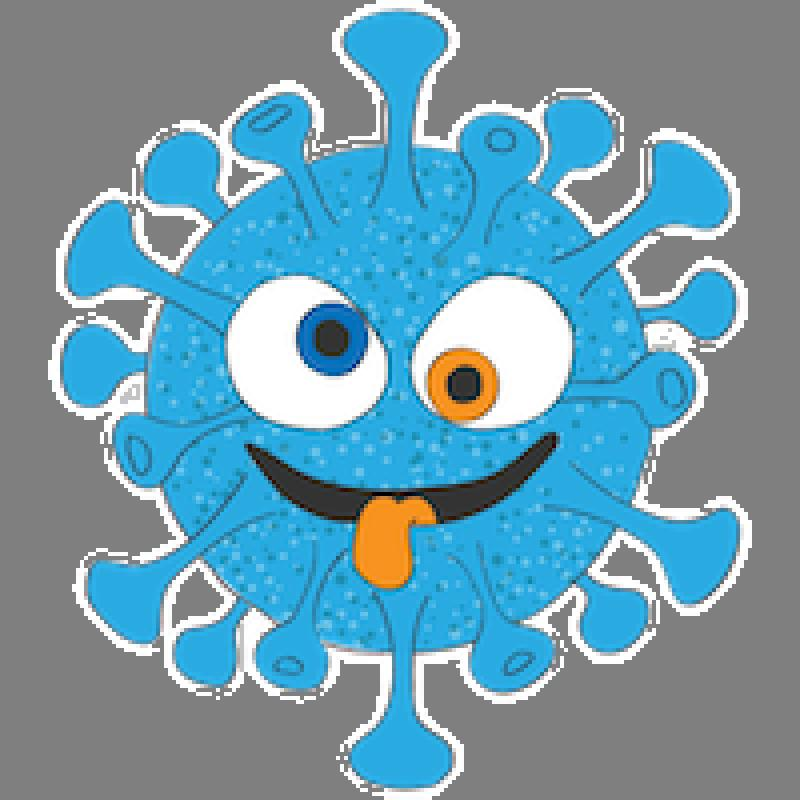corona3: (4, 0, 797, 799)
